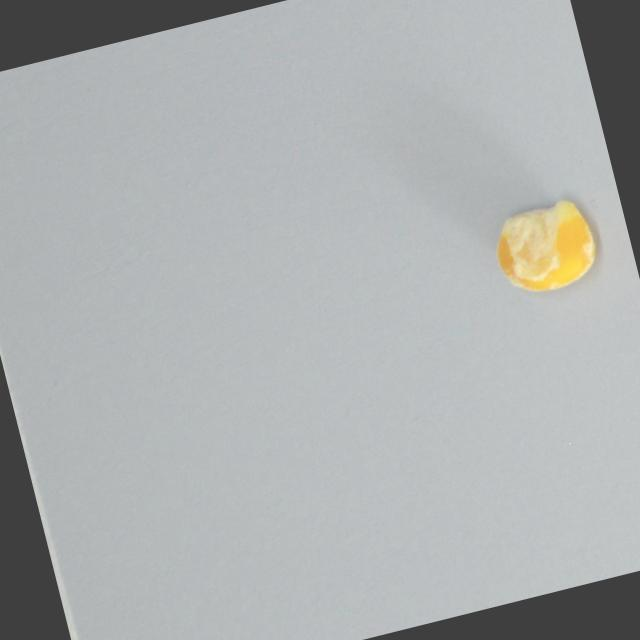pelicula: (485, 193, 604, 303)
